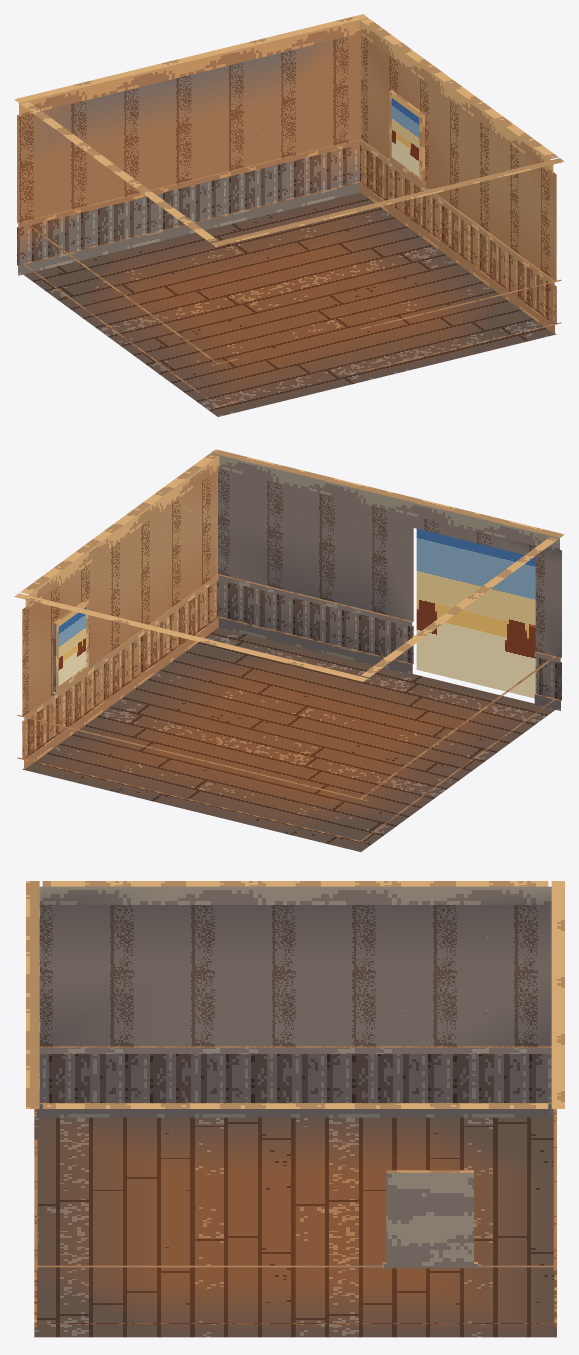
File: wtown.room__office.glb
The picture shows the model from 3 angles, top to bottom: view 1: azimuth 30°, elevation 25°; view 2: azimuth 150°, elevation 25°; view 3: azimuth 270°, elevation 25°; orthographic projection. The views are drawn at different scales.
Parts seen in each view (by area): view 1: kit_shell_walls, kit_shell_floor, kit_card_views, kit_windows; view 2: kit_shell_walls, kit_shell_floor, kit_card_door_views, kit_card_views, kit_windows; view 3: kit_shell_walls, kit_shell_floor, kit_windows.
Part boxes in pixels (x1,y1,x2,y2): kit_shell_walls: [14, 14, 564, 408]; kit_shell_floor: [24, 192, 556, 416]; kit_card_views: [391, 98, 419, 176]; kit_windows: [388, 90, 426, 187]; kit_shell_walls: [14, 449, 564, 843]; kit_shell_floor: [22, 627, 555, 851]; kit_card_door_views: [416, 529, 535, 698]; kit_card_views: [58, 607, 86, 685]; kit_windows: [51, 599, 90, 696]; kit_shell_walls: [26, 881, 564, 1327]; kit_shell_floor: [34, 1117, 556, 1337]; kit_windows: [382, 1170, 477, 1268].
Size of the model in its own units: 8 by 3.85 by 8.18.
6 materials, 6 textured.
